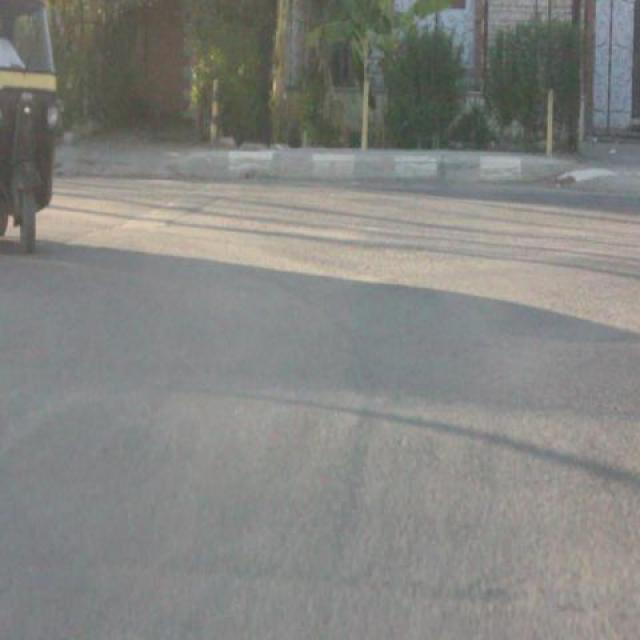Unmarked Bump: (0, 374, 640, 617)
